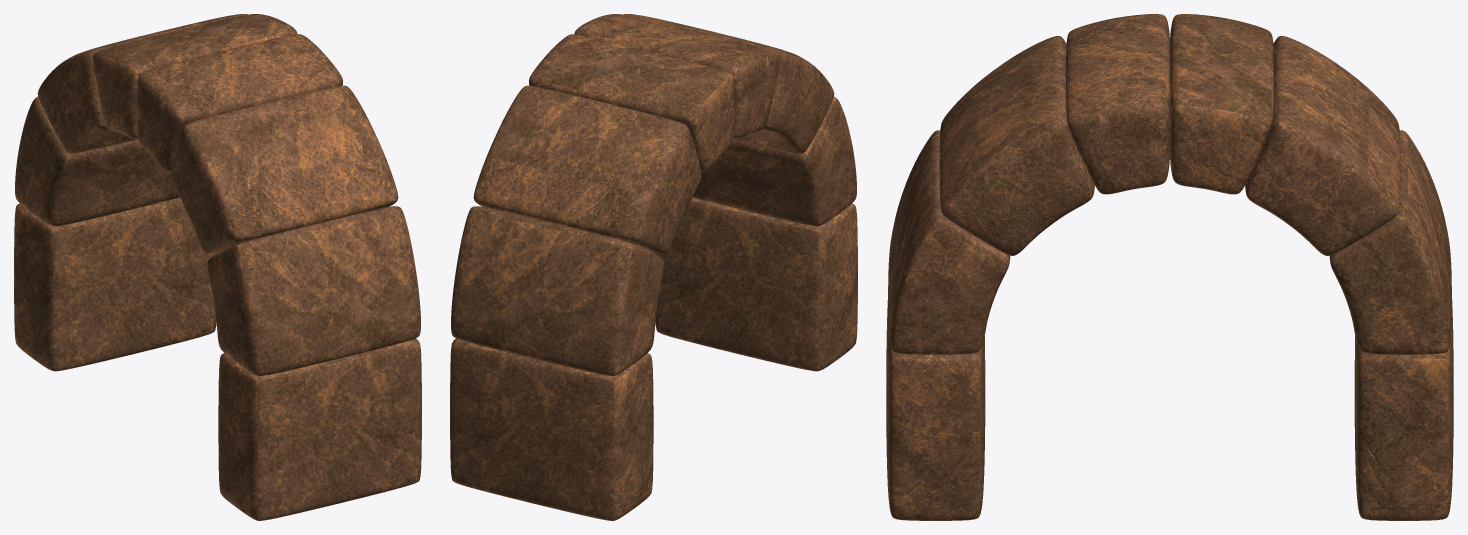
File: FirePlace.fbx
The picture shows the model from 3 angles, left to right: view 1: azimuth 30°, elevation 25°; view 2: azimuth 150°, elevation 25°; view 3: azimuth 270°, elevation 25°; orthographic projection. The views are drawn at different scales.
Parts seen in each view (by area): view 1: Fireplace2; view 2: Fireplace2; view 3: Fireplace2.
Boxes of the visible parts, left/top/right/bottom form: Fireplace2: left=14, top=14, right=421, bottom=520; Fireplace2: left=450, top=14, right=857, bottom=520; Fireplace2: left=886, top=14, right=1453, bottom=520.
Size of the model in its own units: 0.4593 by 0.9423 by 1.14.
Materials: 1 (1 with a texture image).
